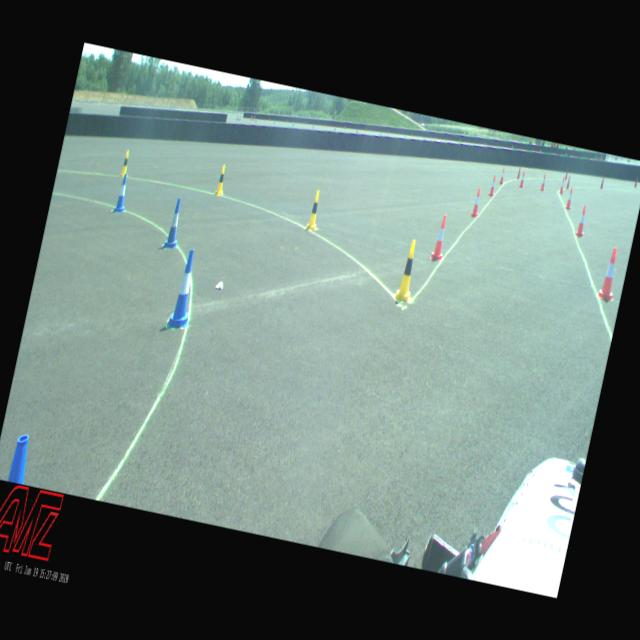blue_cone: (166, 247, 202, 331), (8, 433, 33, 485), (162, 196, 186, 250), (112, 172, 132, 214)
orange_cone: (598, 247, 624, 301), (429, 214, 450, 261), (469, 186, 484, 218), (574, 204, 588, 237), (564, 186, 574, 208), (488, 174, 497, 197), (539, 172, 547, 192), (558, 176, 566, 194), (518, 170, 526, 188), (498, 167, 506, 184)
yellow_cone: (394, 238, 422, 302), (306, 189, 323, 230), (215, 164, 228, 196), (120, 148, 130, 177)
